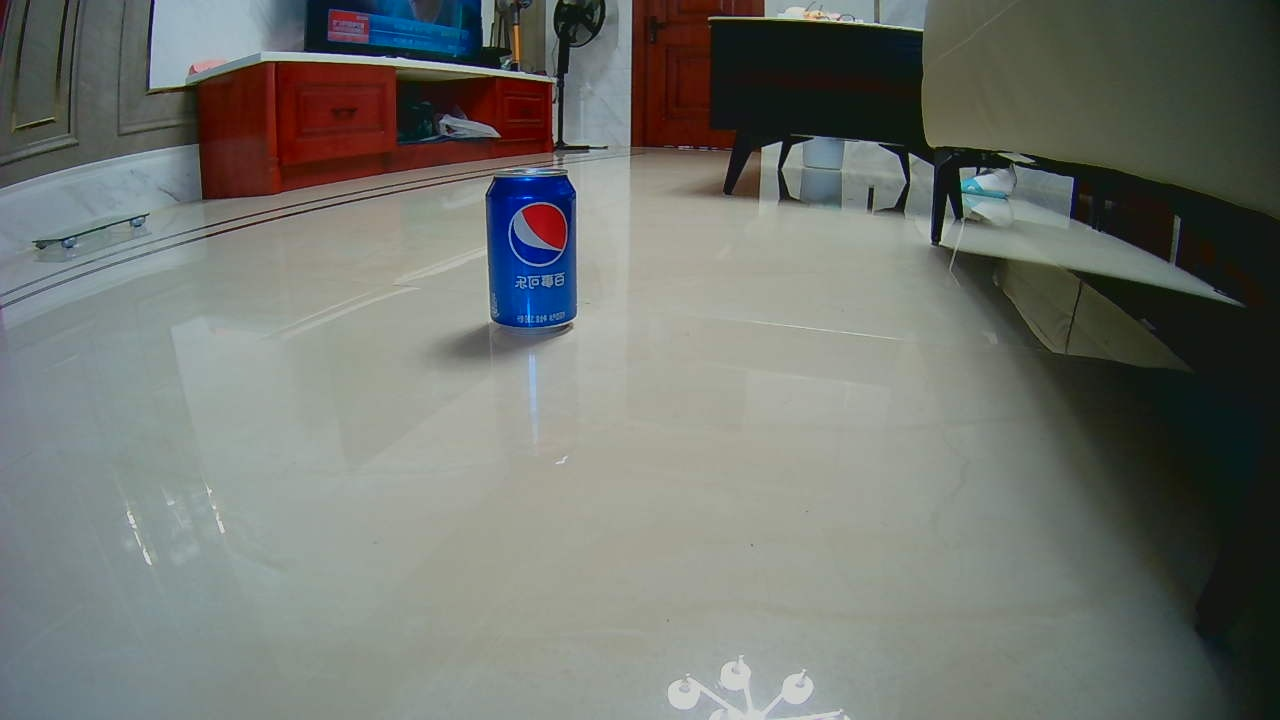pessi: (478, 158, 578, 336)
